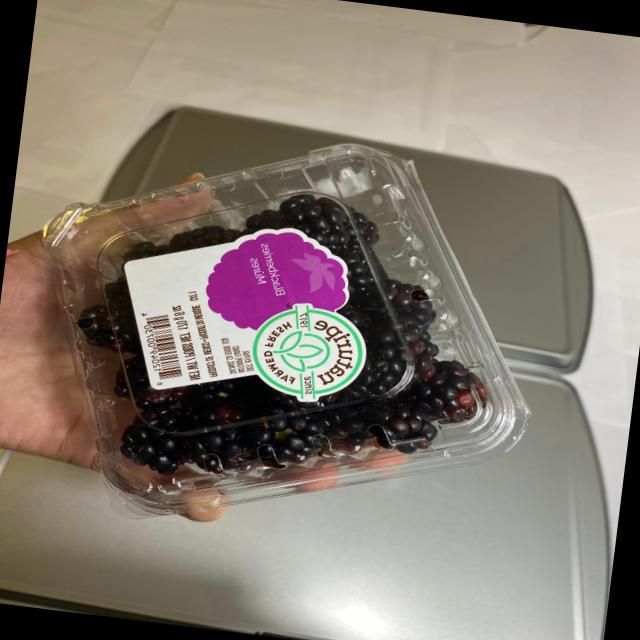blackberries: (43, 98, 549, 540)
